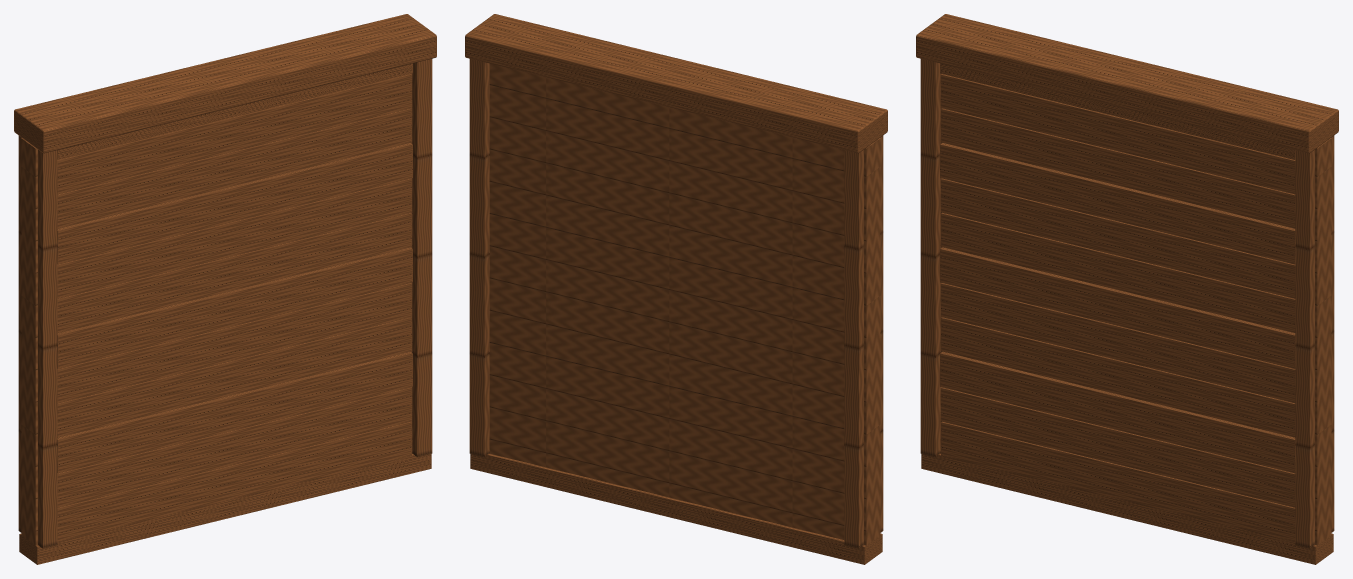
File: wild-west-frontier-town-clapboard-wall-bay-1733fa03__30126.glb
The picture shows the model from 3 angles, left to right: view 1: azimuth 30°, elevation 25°; view 2: azimuth 150°, elevation 25°; view 3: azimuth 330°, elevation 25°; orthographic projection.
Visible parts, largest first — view 1: clapboard-wall-bay; view 2: clapboard-wall-bay; view 3: clapboard-wall-bay.
Part boxes in pixels (x1,y1,x2,y2): clapboard-wall-bay: (14, 14, 436, 564); clapboard-wall-bay: (465, 14, 887, 564); clapboard-wall-bay: (916, 14, 1338, 564).
Size of the model in its own units: 3.2 by 3.4 by 0.42.
Materials: 1 (1 with a texture image).
